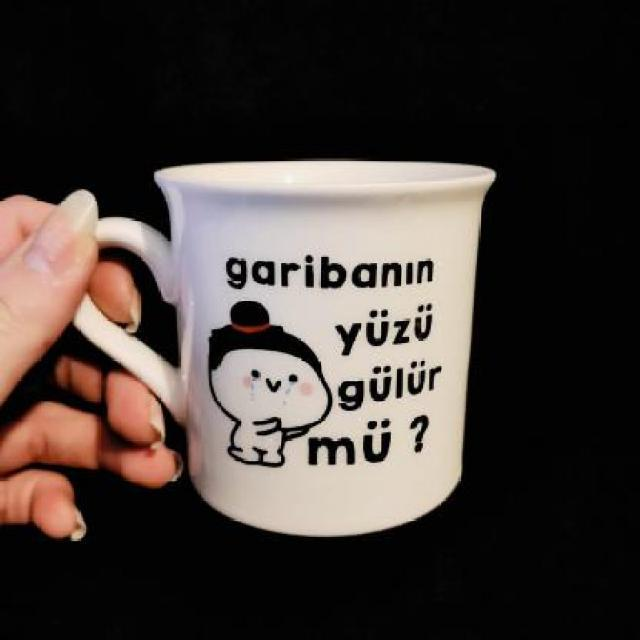taza: (51, 130, 498, 540)
